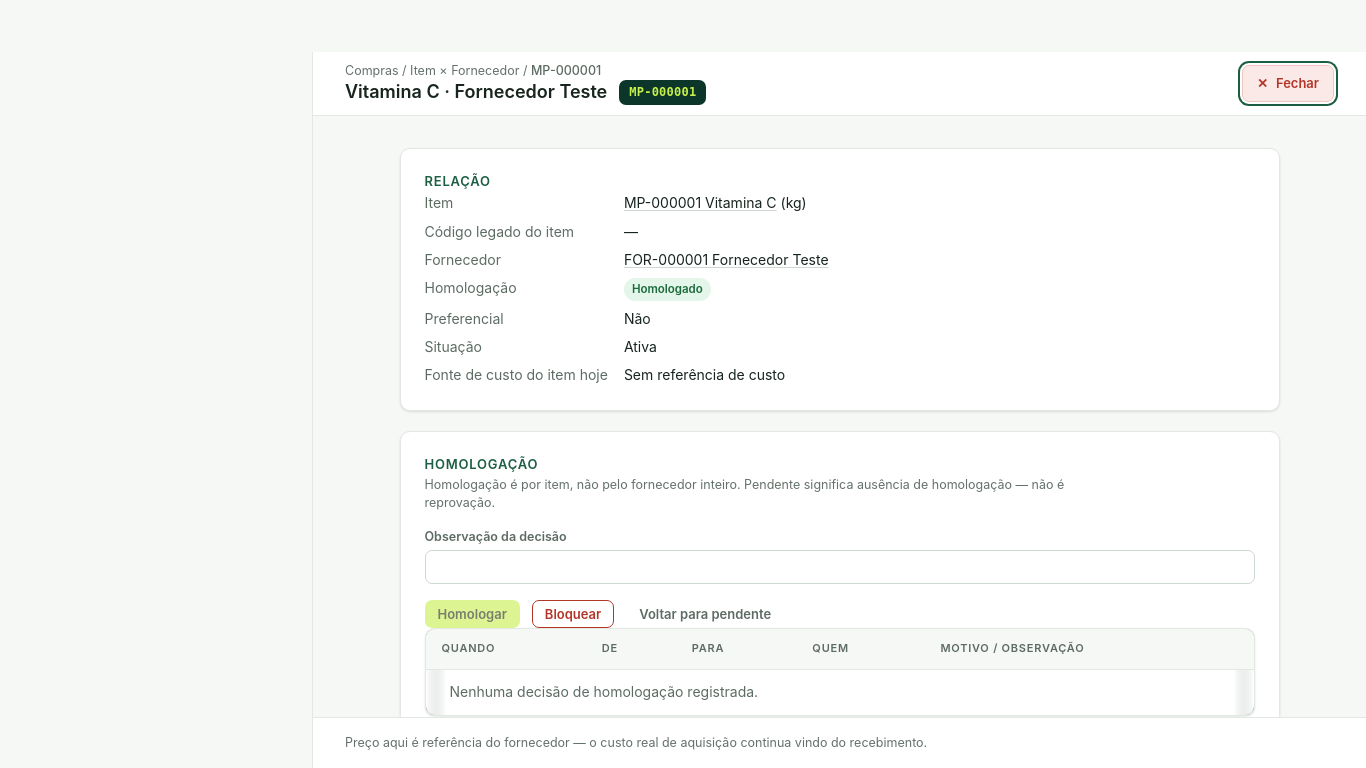
Scenario: SUPPLIER-QUALITY-REJECTION-REASON-01 — Bloquear no detalhe da relação › Cancelar não grava; o texto digitado continua na observação, e reabrir traz o mesmo texto
The width and height of the screenshot is (1366, 768).
Expected: the heading "Vitamina C · Fornecedor Teste" is shown, [345,81,607,104]
Type "Especificação" into the field labelled "Observação da decisão".
click(840, 567); type("Especificação")  # box [424,550,1254,584]
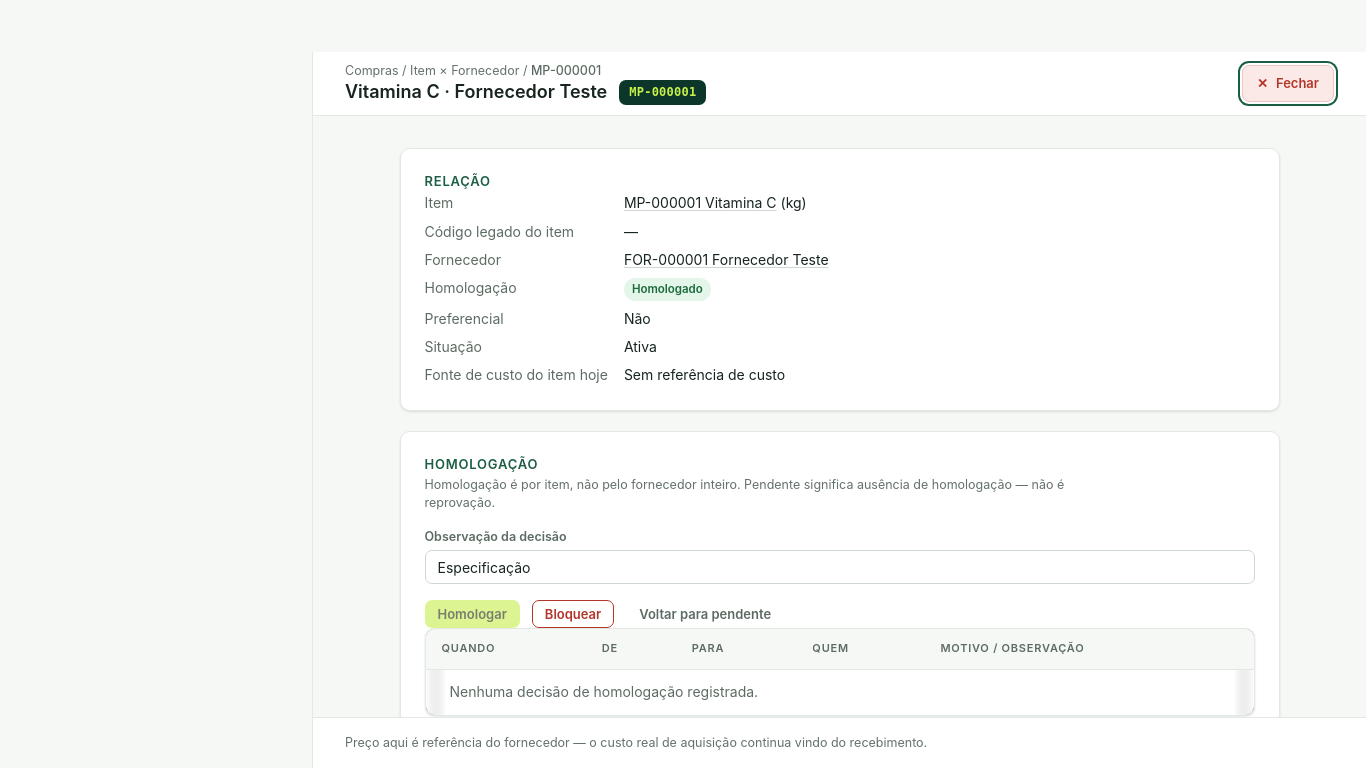
Click the button "Bloquear".
click(573, 614)  # box [532,600,614,628]
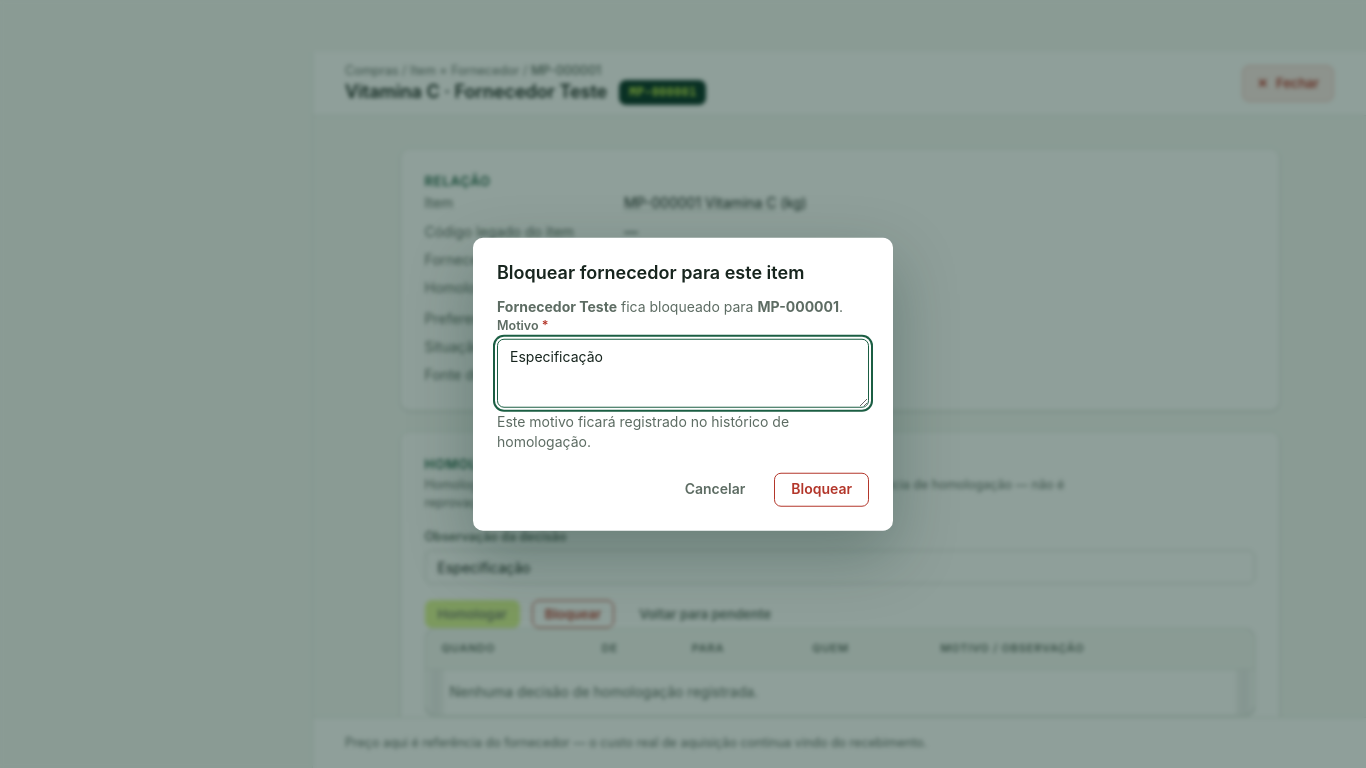
Result: the text box labelled "Motivo *" holds "Especificação"
Replace the text in the text box labelled "Motivo *" with "Especificação divergente" at (683, 373), box [497,339,869,408]
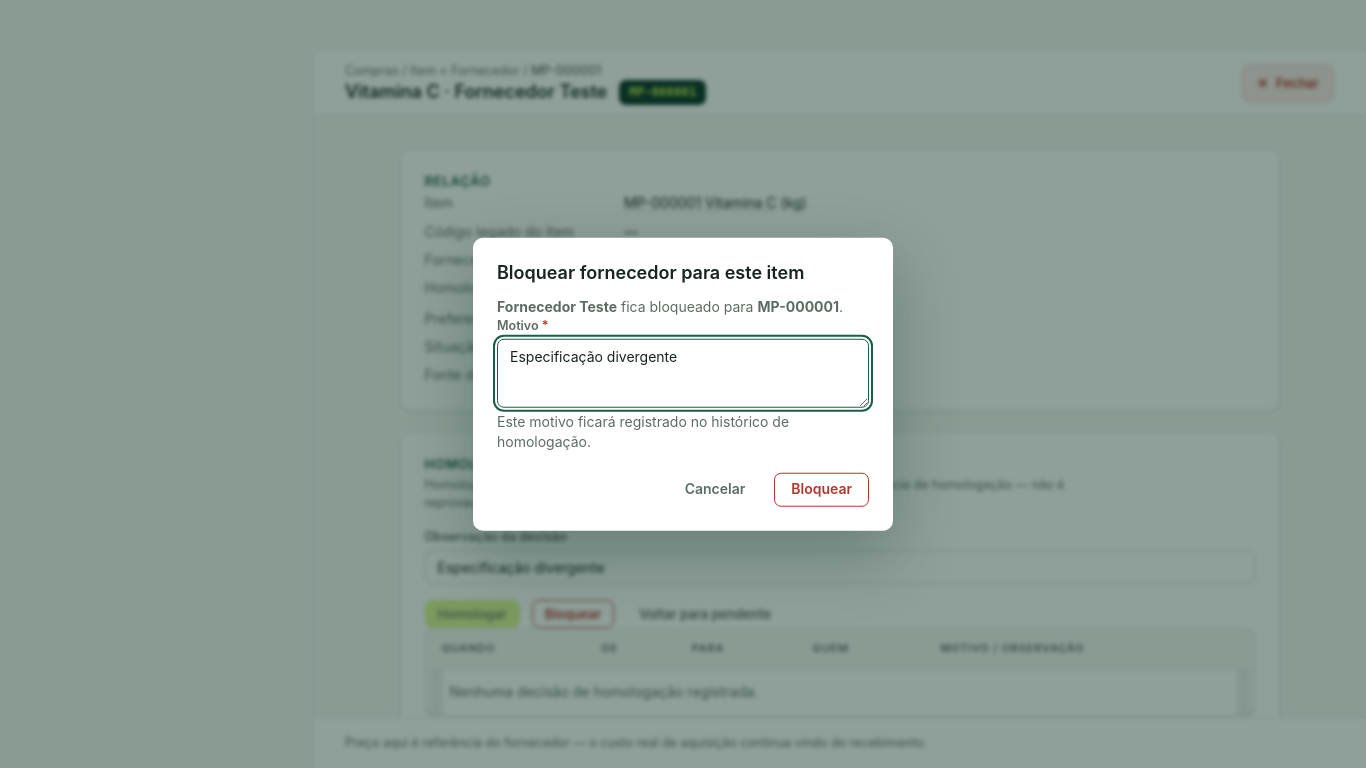
Click the button "Cancelar".
click(715, 489)  # box [668,472,762,506]
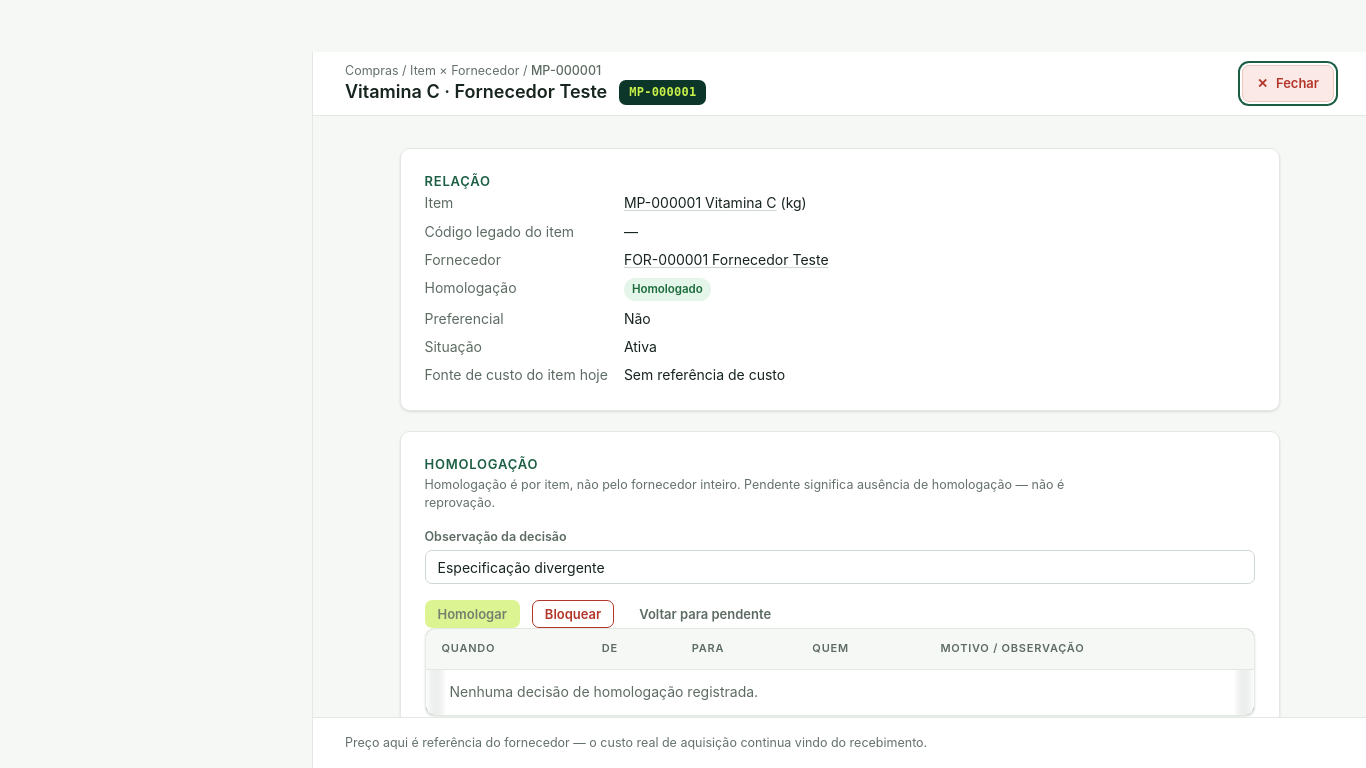
Result: the field labelled "Observação da decisão" holds "Especificação divergente" at [424,550,1254,584]
Click the button "Bloquear".
click(573, 614)  # box [532,600,614,628]
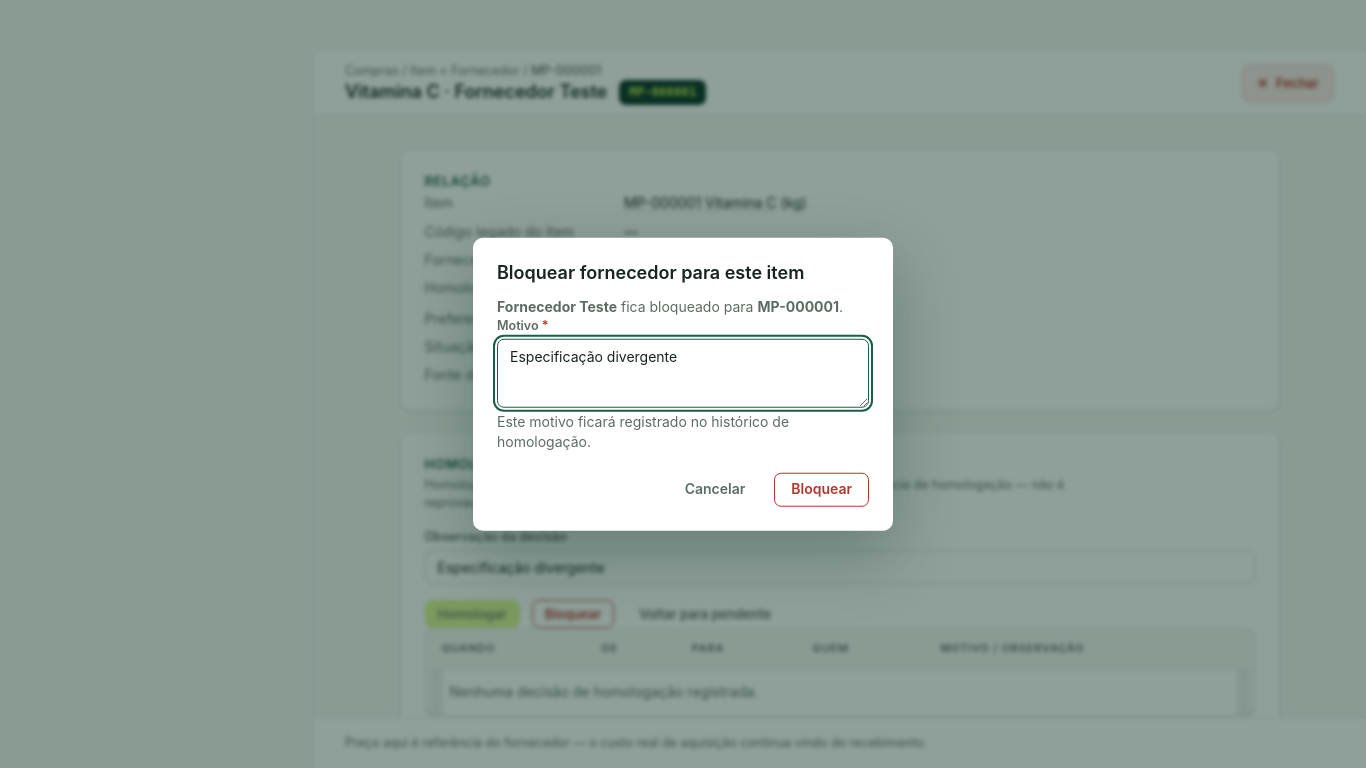
Result: the text box labelled "Motivo *" holds "Especificação divergente" at [497,339,869,408]
Result: the button "Bloquear" is enabled at [774,472,869,506]
